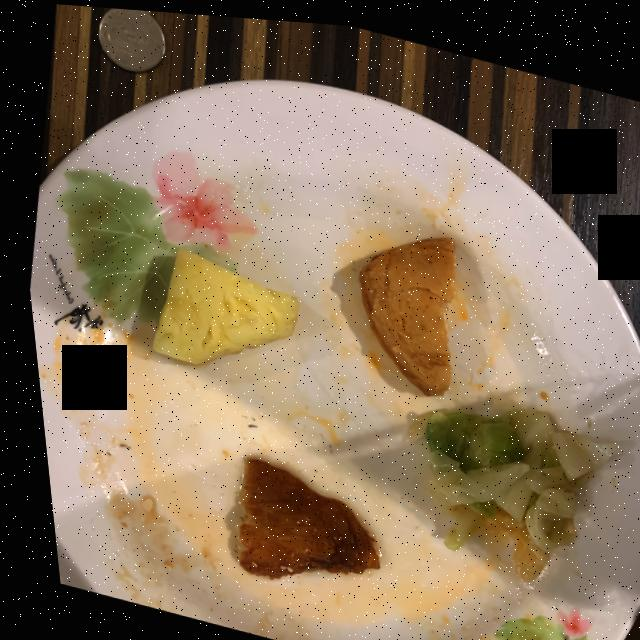Kabayaki sea bream fillet: (227, 455, 368, 576)
cabbage: (411, 401, 609, 574)
coin: (98, 7, 165, 70)
creamy tofu: (354, 231, 451, 390)
pineapple: (145, 245, 293, 362)
